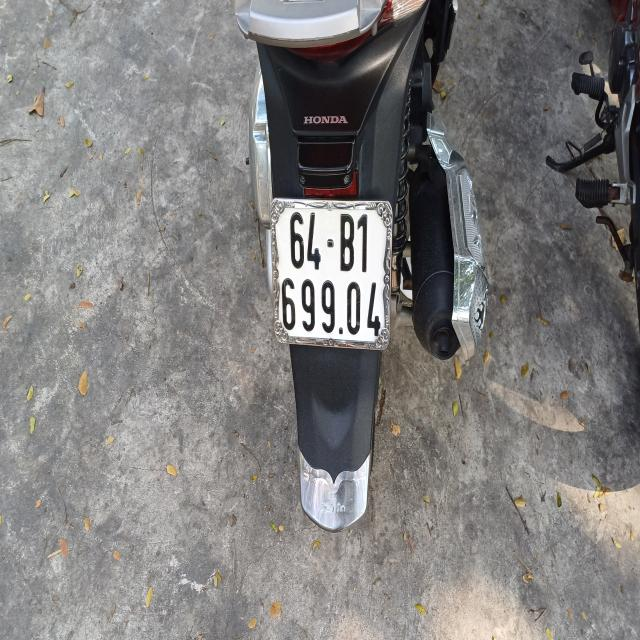0: (342, 279, 362, 338)
1: (357, 213, 369, 276)
4: (365, 278, 381, 339), (307, 210, 321, 274)
6: (288, 210, 304, 272), (280, 276, 296, 331)
9: (300, 276, 316, 335), (321, 277, 336, 333)
B: (338, 212, 356, 274)
